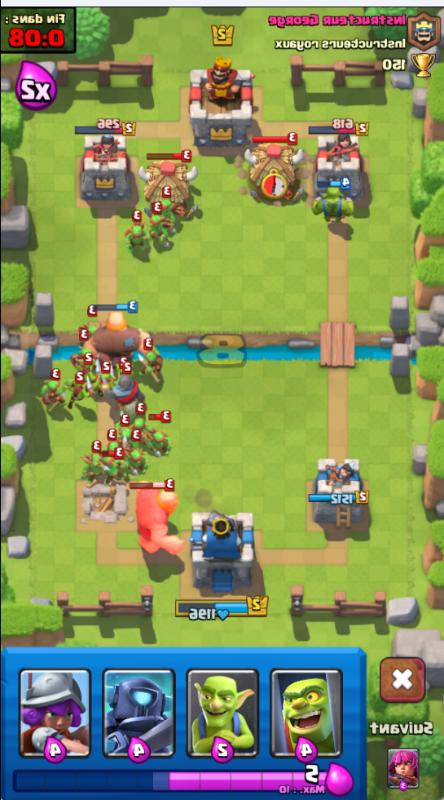chevalier: (100, 372, 143, 415)
geant: (81, 296, 155, 372), (124, 475, 185, 559)
gobelin: (66, 374, 91, 410), (77, 357, 95, 388), (97, 369, 116, 396), (115, 361, 134, 382)
gobelin_lances: (139, 347, 165, 386), (40, 374, 66, 413), (123, 210, 147, 252), (146, 214, 171, 254), (152, 200, 181, 233), (76, 451, 103, 485), (145, 427, 174, 458), (71, 346, 93, 375), (103, 455, 125, 483), (128, 444, 147, 475), (77, 322, 99, 348), (115, 424, 134, 449), (133, 417, 147, 441), (105, 440, 119, 455)
